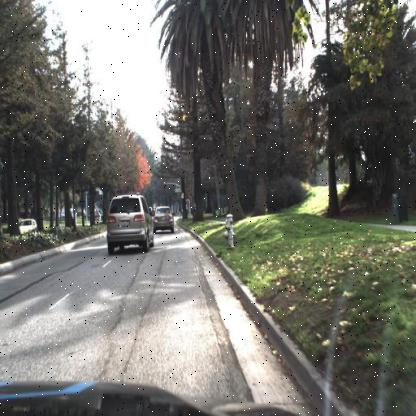car: (104, 189, 160, 255), (152, 201, 174, 235), (18, 217, 39, 235)
trafficLight-Red: (163, 178, 167, 186)
